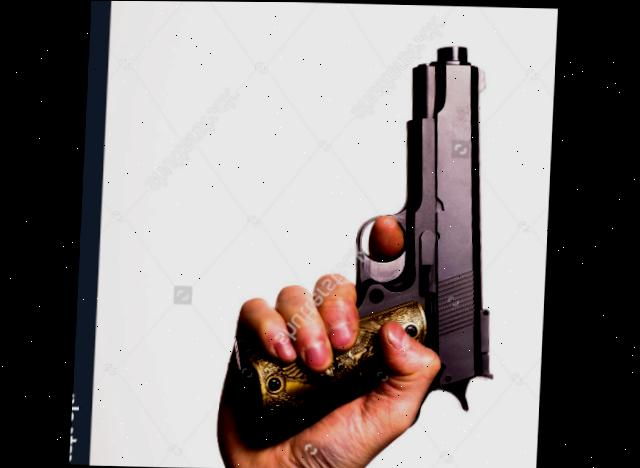pistol: (234, 40, 511, 448)
